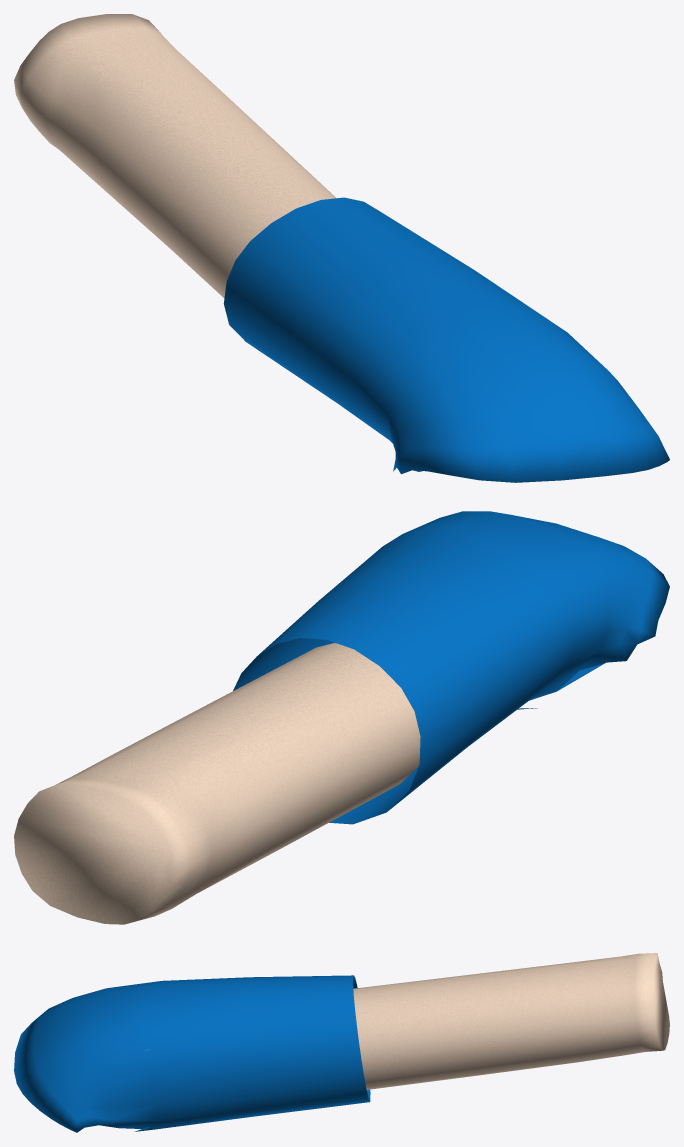
File: l_arm.obj
The picture shows the model from 3 angles, top to bottom: view 1: azimuth 30°, elevation 25°; view 2: azimuth 150°, elevation 25°; view 3: azimuth 270°, elevation 25°; orthographic projection. The views are drawn at different scales.
Parts seen in each view (by area): view 1: l_arm_Cube.008; view 2: l_arm_Cube.008; view 3: l_arm_Cube.008.
Boxes of the visible parts, bbox=[...] form: l_arm_Cube.008: bbox=[14, 14, 669, 482]; l_arm_Cube.008: bbox=[14, 511, 669, 924]; l_arm_Cube.008: bbox=[14, 953, 669, 1132].
Bounding box in the file's own units: 0.0991 × 0.0731 × 0.3225.
1 material, 1 textured.
